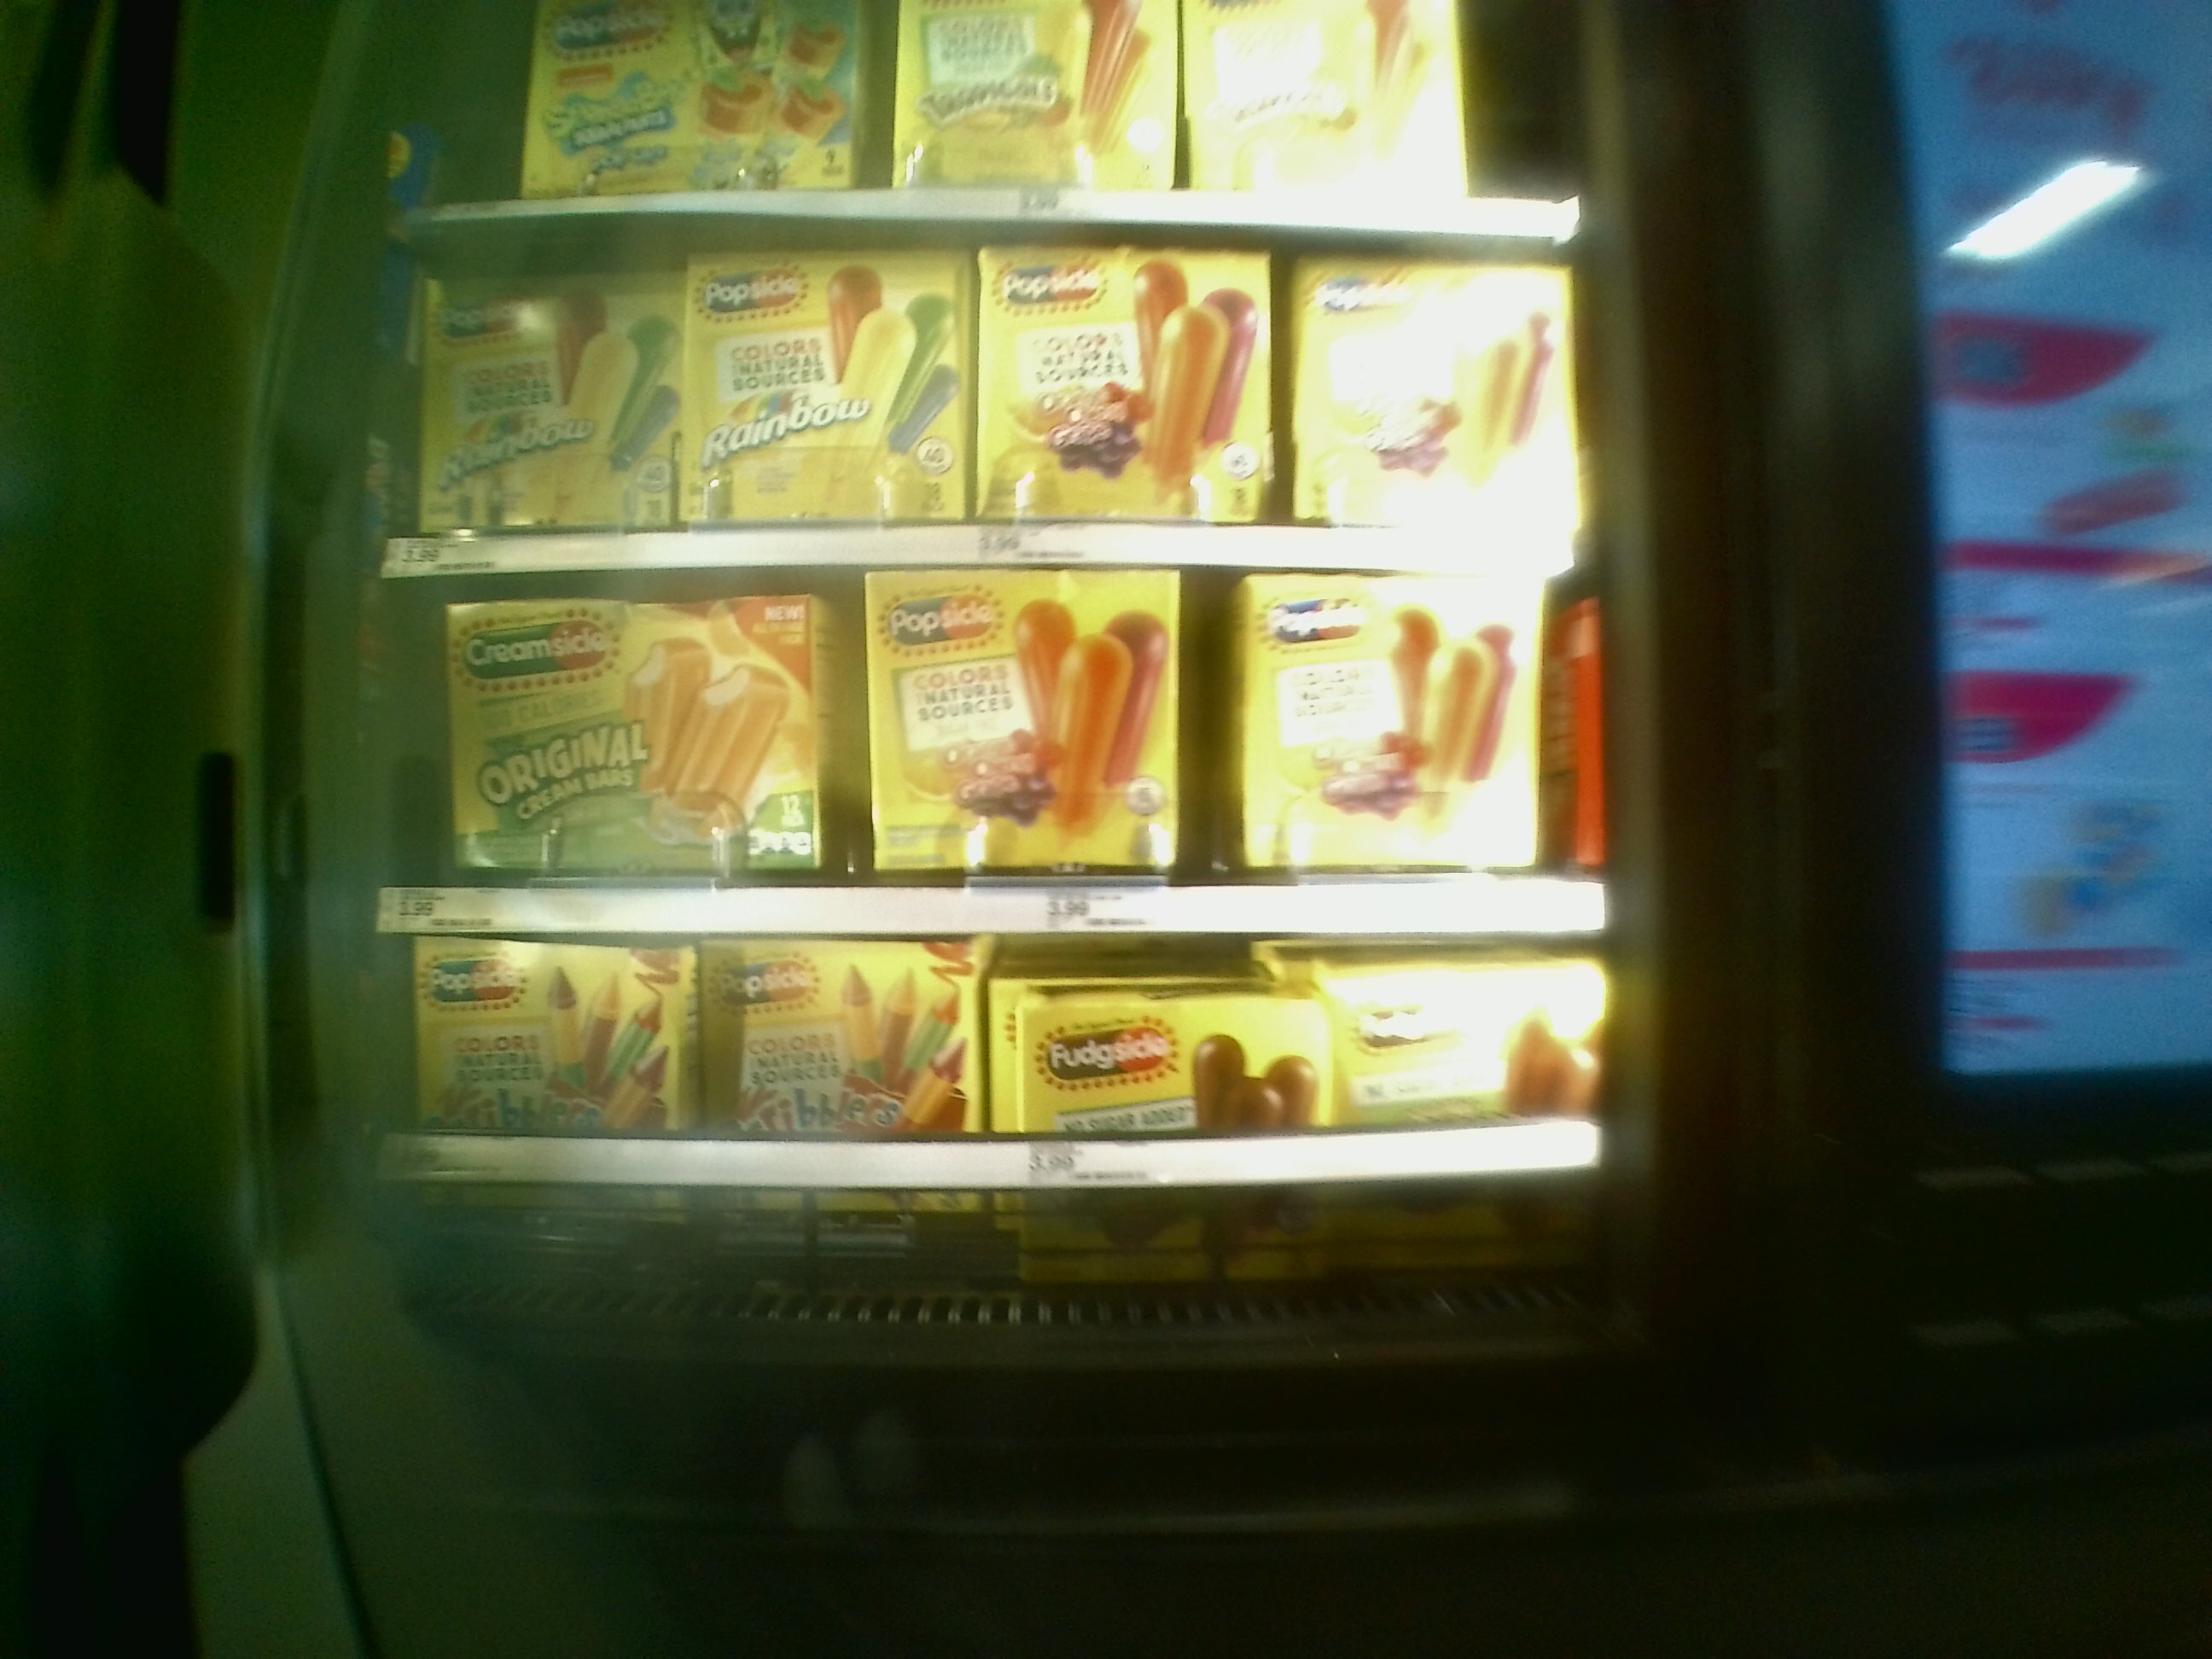shelf: (381, 556, 1616, 932), (383, 242, 1590, 563)
